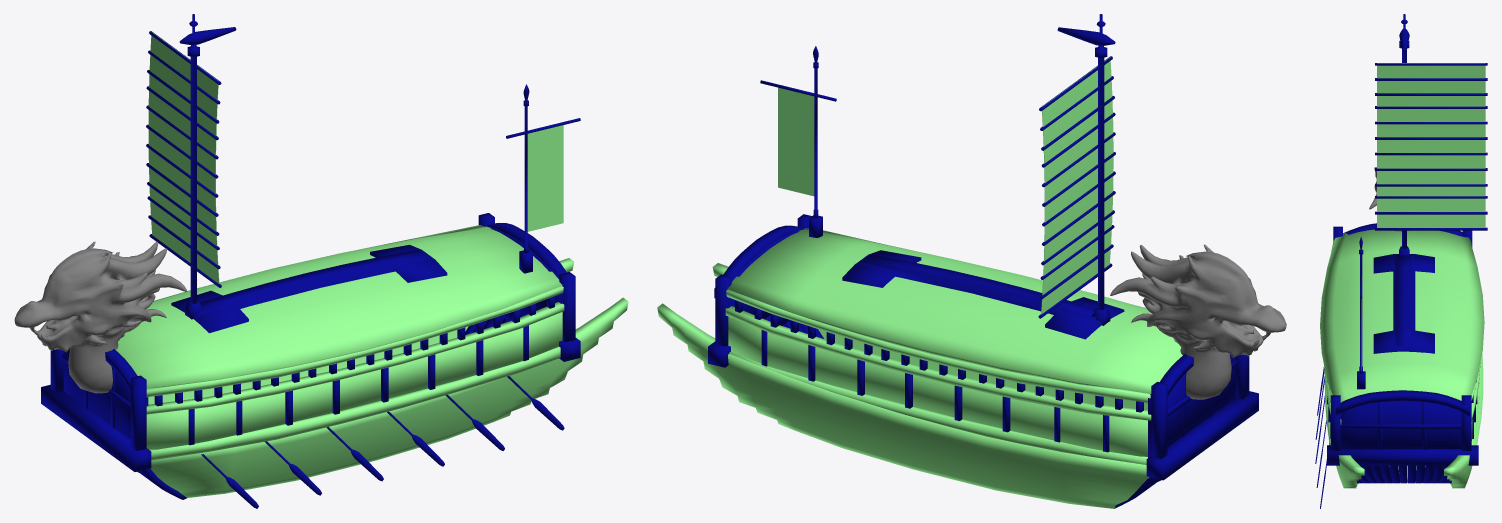
File: 거북선.fbx
The picture shows the model from 3 angles, left to right: view 1: azimuth 30°, elevation 25°; view 2: azimuth 150°, elevation 25°; view 3: azimuth 270°, elevation 25°; orthographic projection. The views are drawn at different scales.
Visible parts, largest first — view 1: 2_low002; view 2: 2_low002; view 3: 2_low002.
Part boxes in pixels (left/top/right/bottom): 2_low002: left=14, top=14, right=628, bottom=508; 2_low002: left=657, top=14, right=1286, bottom=508; 2_low002: left=1315, top=14, right=1487, bottom=508.
Bounding box in the file's own units: 2639 × 1982 × 831.
